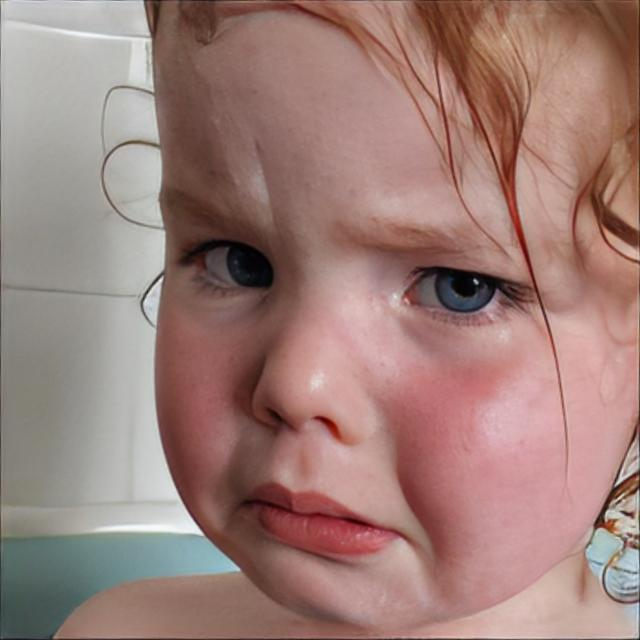sad: (149, 0, 640, 636)
